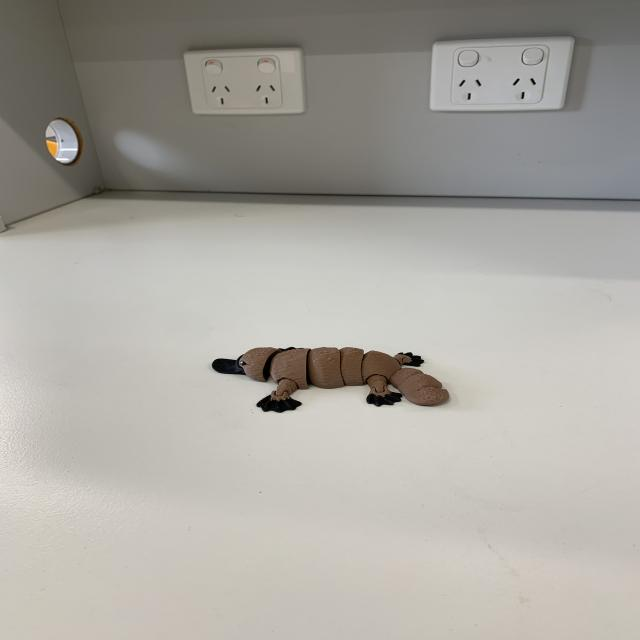platypus: (206, 347, 453, 420)
